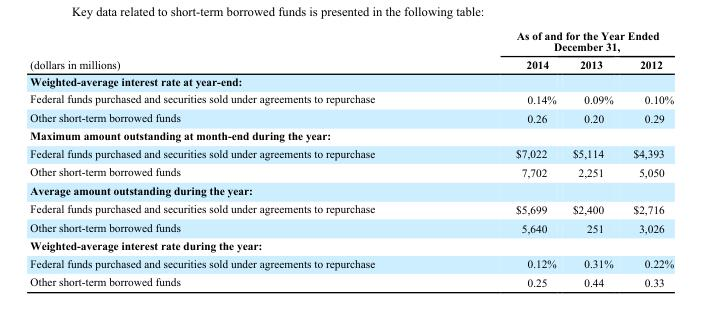table: (29, 28, 673, 288)
table column: (29, 28, 444, 288), (444, 28, 563, 288), (563, 28, 622, 288), (622, 28, 673, 288)
table column header: (29, 28, 673, 72)
table projected row header: (29, 126, 673, 144), (29, 181, 673, 199), (29, 72, 673, 89), (29, 236, 673, 253)
table row: (29, 28, 673, 54), (29, 89, 673, 108), (29, 162, 673, 181), (29, 217, 673, 236), (29, 253, 673, 272), (29, 54, 673, 72), (29, 108, 673, 126), (29, 126, 673, 144), (29, 144, 673, 162), (29, 181, 673, 199), (29, 199, 673, 217), (29, 72, 673, 89), (29, 236, 673, 253), (29, 272, 673, 288)
table spanning cell: (29, 28, 444, 72), (444, 28, 673, 54)
